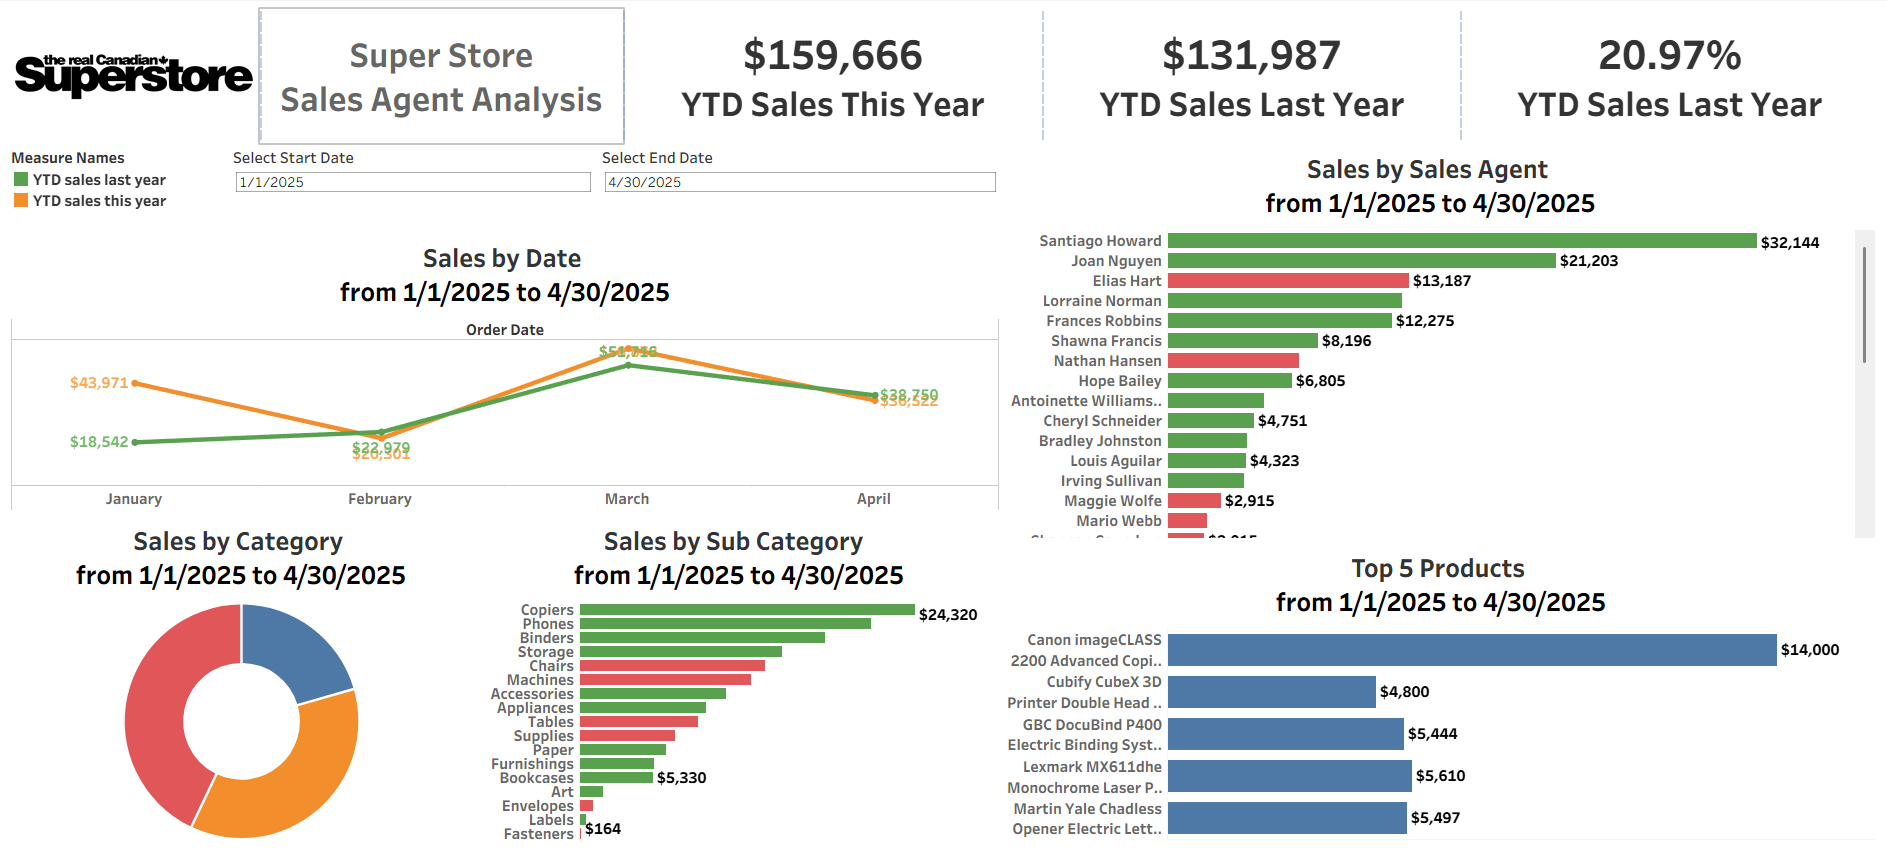

The dashboard page shown, as its layout file describes it:
{"tool":"tableau","page":{"name":"Dashboard 3","canvas":[1000,1000],"units":"permille","ordinal":2},"visuals":[{"type":"image","param":"Image/superstorelogo 1.png","box":[4.2,9.4,134,157.4]},{"type":"text","box":[138.2,9.4,192.3,157.4]},{"type":"worksheet","title":"YTD Sales This Year","mark":"Automatic","box":[330.5,9.4,221.7,157.4]},{"type":"worksheet","title":"YTD Sales Last Year","mark":"Automatic","box":[552.3,9.4,221.7,157.4]},{"type":"worksheet","title":"Growth%","mark":"Automatic","box":[774,9.4,221.7,157.4]},{"type":"legend","title":"Sales by Date","param":"[federated.1tj0nea1vq1fd31ei3ehy0sh1byr].[:Measure Names]","box":[4.2,166.8,117.6,104.6]},{"type":"parameter","param":"[Parameters].[Parameter 1]","box":[121.8,166.8,195.2,104.6]},{"type":"parameter","param":"[Parameters].[Parameter 2]","box":[317.1,166.8,214.7,104.6]},{"type":"worksheet","title":"Sales by Sales Agent","mark":"Automatic","rows":["Calculation_0481654386262016"],"cols":["Calculation_0611054080868352"],"box":[531.8,166.8,464,468.9]},{"type":"worksheet","title":"Sales by Date","mark":"Automatic","rows":["Calculation_0611054080868352","Calculation_0611054084243459"],"cols":["Order Date"],"box":[4.2,271.4,527.5,332.5]},{"type":"worksheet","title":"Sales by Category","box":[4.2,604,247.8,386.6]},{"type":"worksheet","title":"Sales by Sub Category ","mark":"Automatic","rows":["Sub-Category"],"cols":["Calculation_0611054080868352"],"box":[252.1,604,279.7,386.6]},{"type":"worksheet","title":"Top 5 Products","mark":"Automatic","rows":["Product Name"],"cols":["Calculation_0611054080868352"],"box":[531.8,635.7,464,354.9]}]}

Visuals, with their boxes on the dashboard's canvas, which has no fixed pixel size, in thousandths of its width and height (x1, y1, x2, y2). These are canvas units, not pixel positions in the 1887x852 screenshot, which may show the page scaled, cropped or inside an application window:
image: bbox(4, 9, 138, 167)
text: bbox(138, 9, 330, 167)
"YTD Sales This Year" worksheet: bbox(330, 9, 552, 167)
"YTD Sales Last Year" worksheet: bbox(552, 9, 774, 167)
"Growth%" worksheet: bbox(774, 9, 996, 167)
"Sales by Date" legend: bbox(4, 167, 122, 271)
parameter: bbox(122, 167, 317, 271)
parameter: bbox(317, 167, 532, 271)
"Sales by Sales Agent" worksheet: bbox(532, 167, 996, 636)
"Sales by Date" worksheet: bbox(4, 271, 532, 604)
"Sales by Category" worksheet: bbox(4, 604, 252, 991)
"Sales by Sub Category " worksheet: bbox(252, 604, 532, 991)
"Top 5 Products" worksheet: bbox(532, 636, 996, 991)
